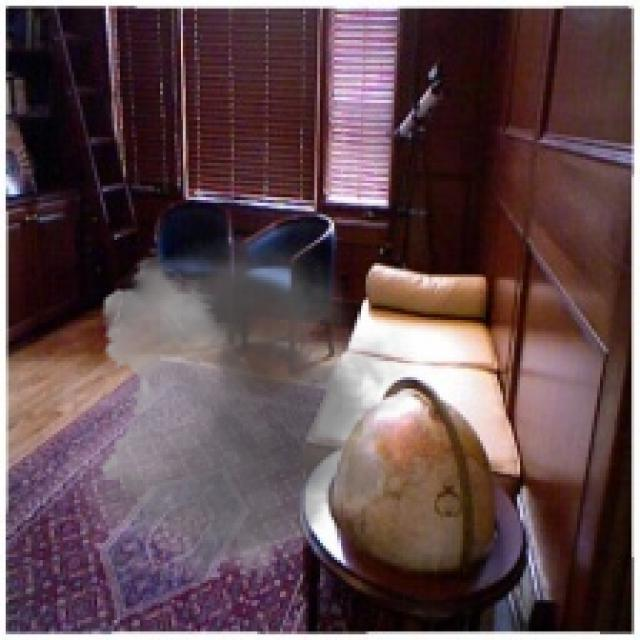Smoke: (17, 234, 434, 597)
